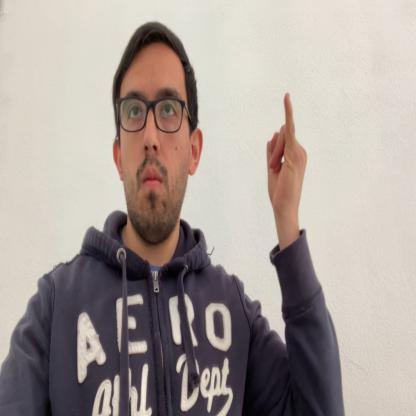I: (266, 92, 308, 230)
